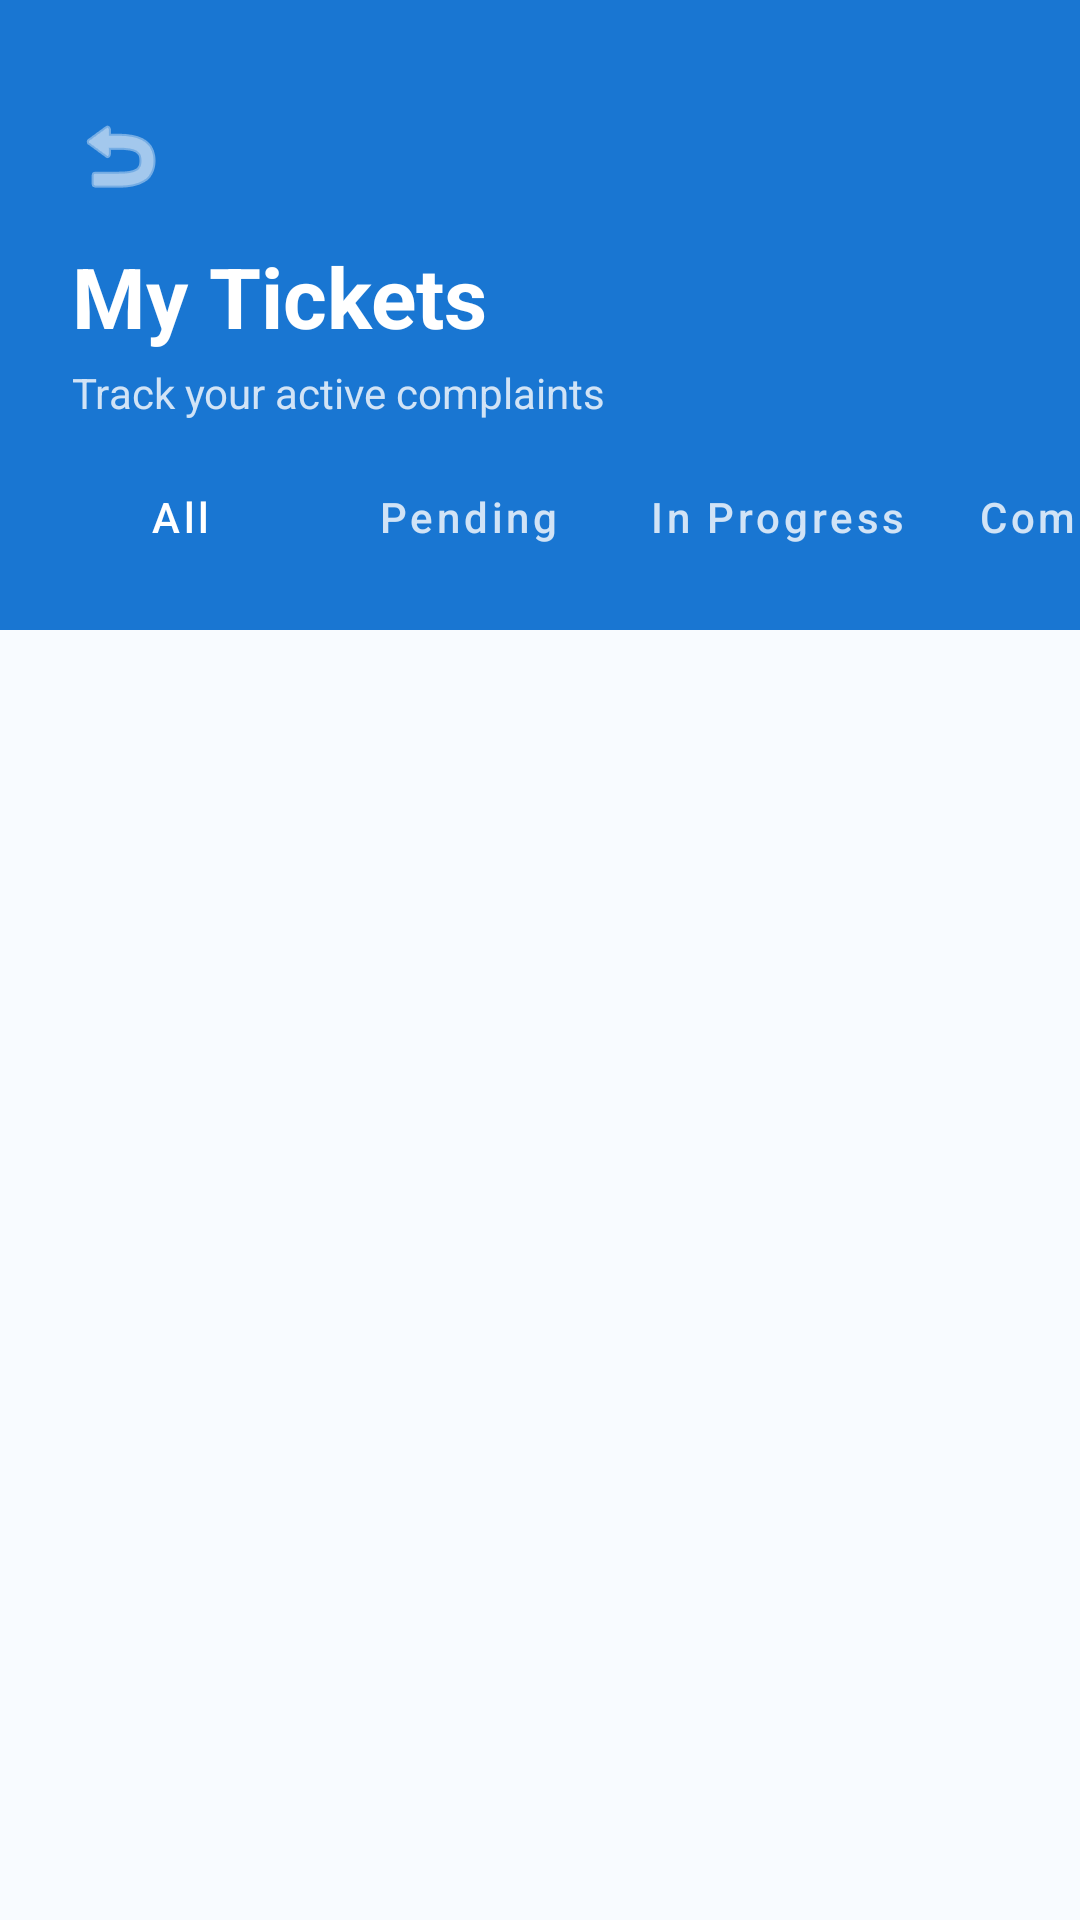

Locate icon controls on the screen. Image size 1080w x 1920h, boxes as box=[x1, y1, x2, y2].
Back: box=[87, 125, 156, 188]
